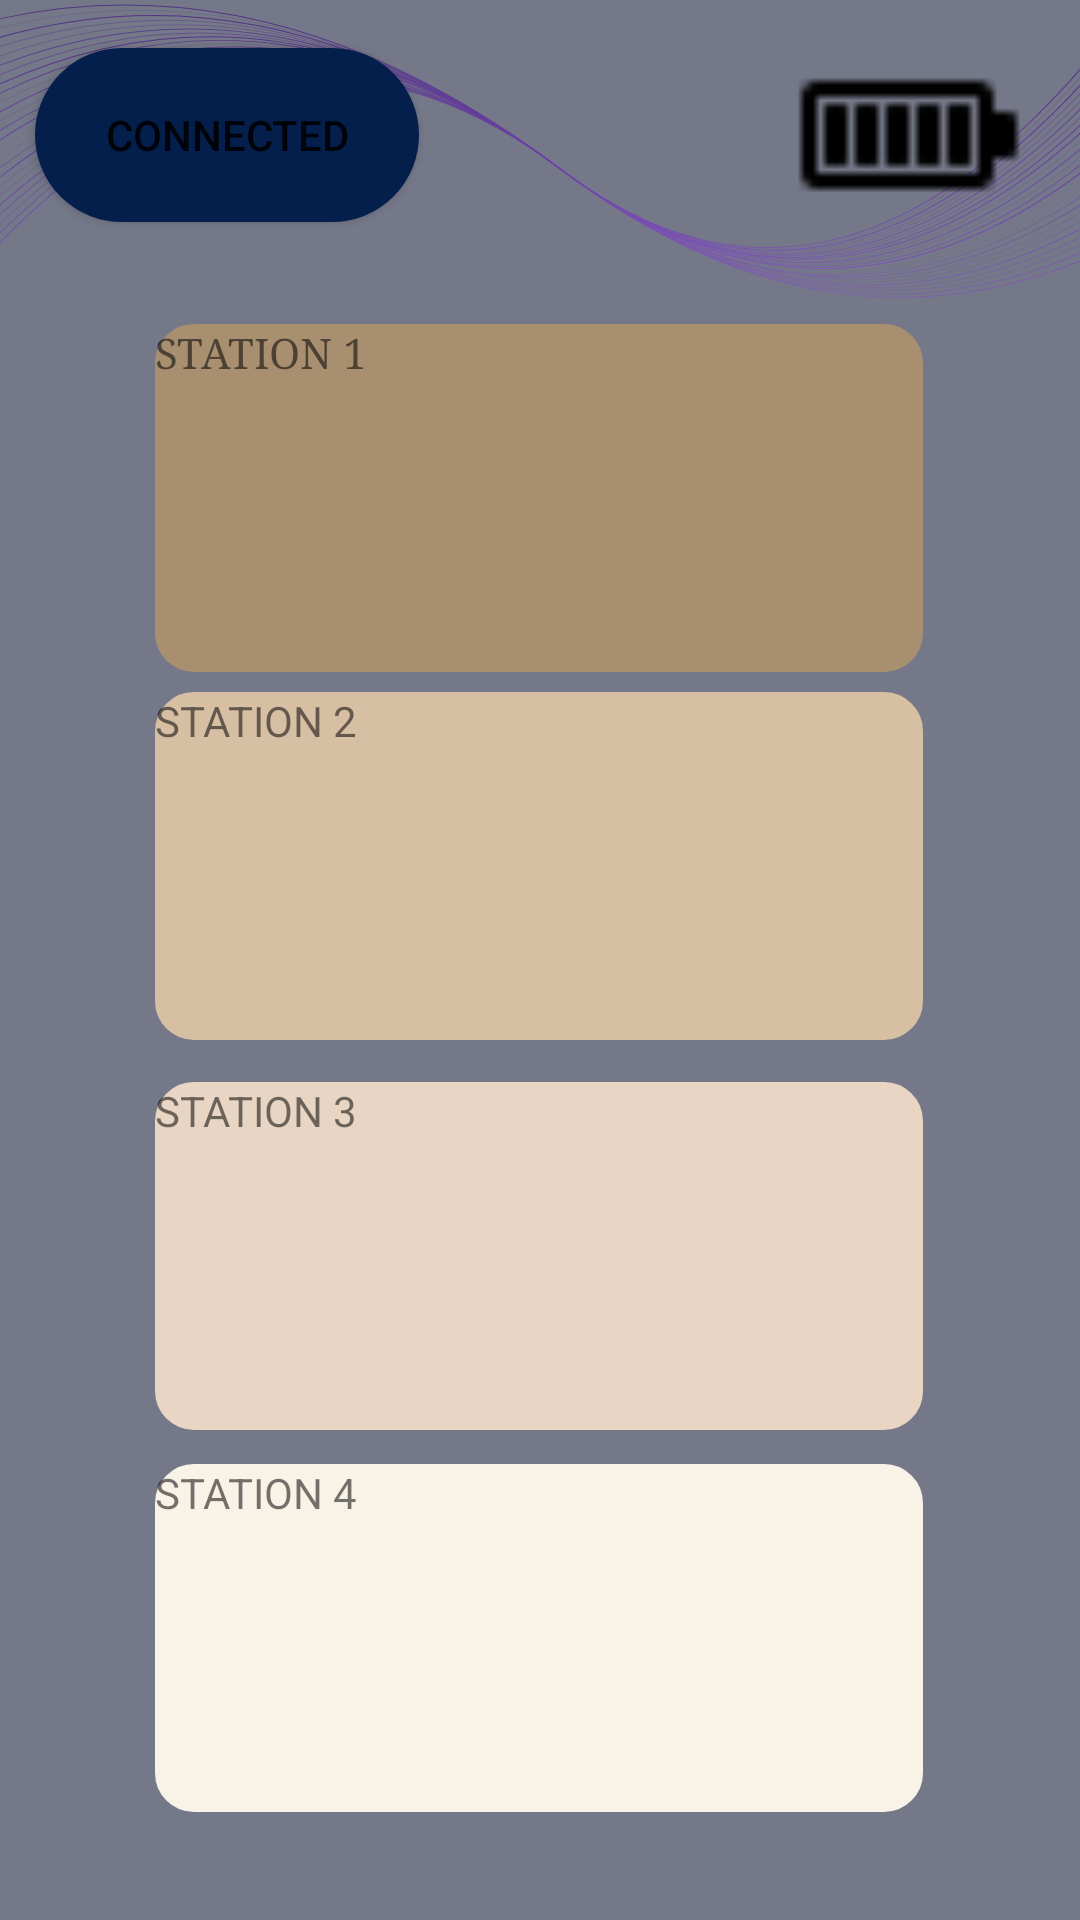

Point at icon controls on the screen. Image size 1080*1920, points as [x,y].
battery: [910,163]
